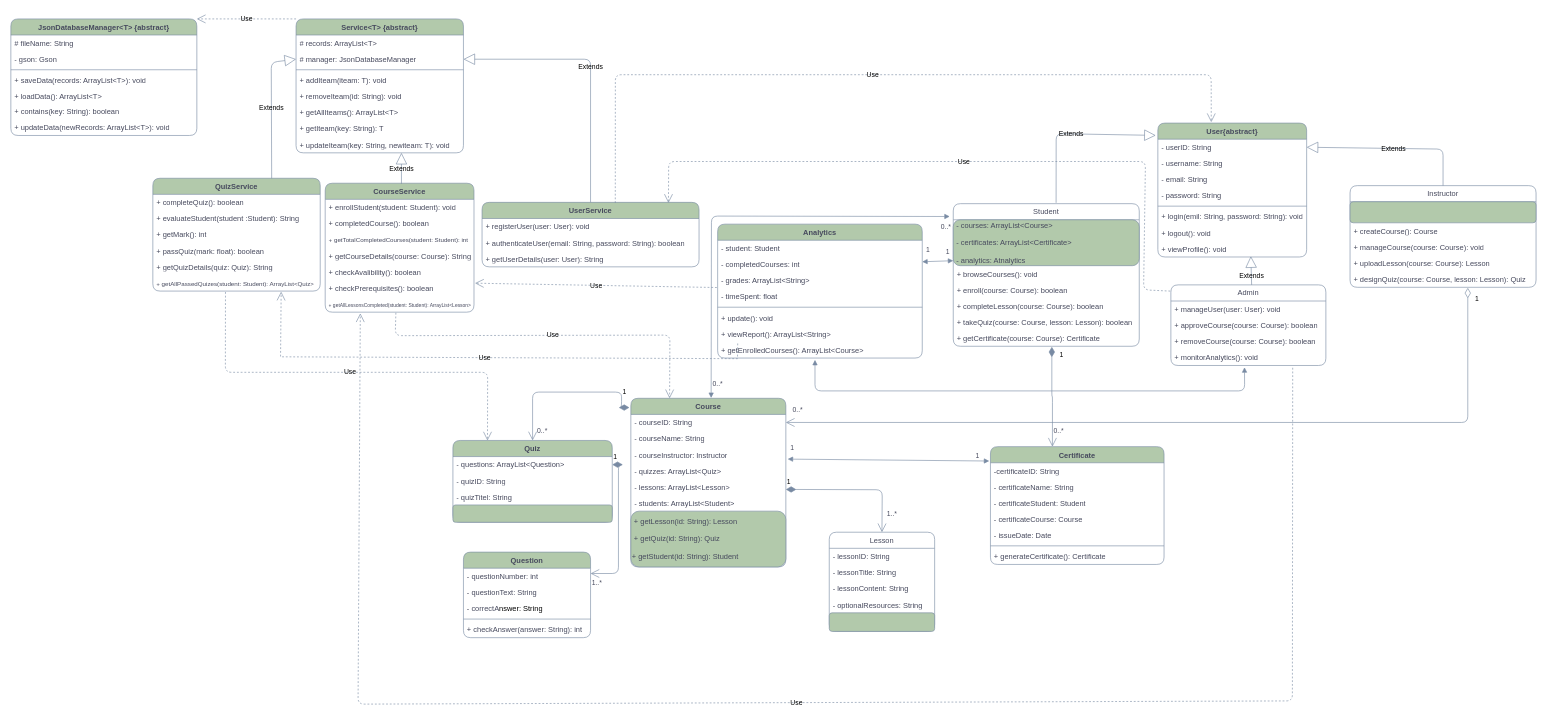
This 1547x724 diagram has some shape labels left out. Each missing label, with the centre of its shape:
+ completeLesson(): boolean: (882,621)
+ getQuestion(questionNumber: int): Question: (532,513)
- createdCourses: Arraylist<Courses>: (1442,212)
